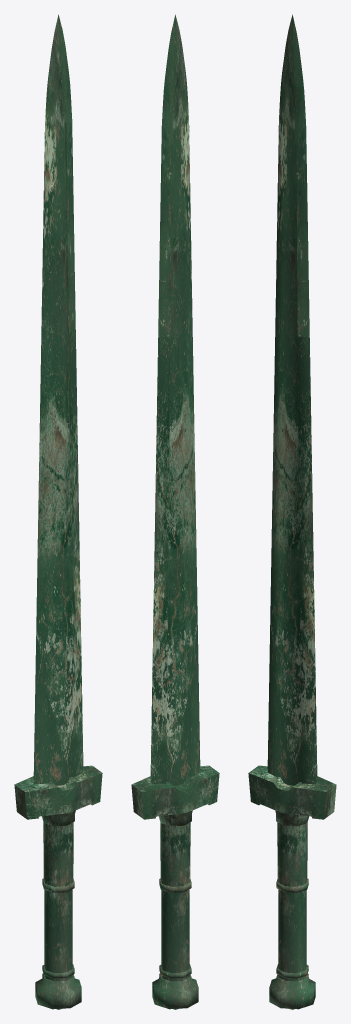
3 views of the same model, side by side, from view 1: azimuth 30°, elevation 25°; view 2: azimuth 210°, elevation 25°; view 3: azimuth 330°, elevation 25° (orthographic).
Visible parts, largest first — view 1: Ob7; view 2: Ob7; view 3: Ob7.
Boxes of the visible parts, box(x1,y1,x2,y2) form: Ob7: box(14, 14, 102, 1009); Ob7: box(131, 14, 219, 1009); Ob7: box(248, 14, 336, 1009).
Size of the model in its own units: 22.79 by 278 by 12.15.
Materials: 1 (1 with a texture image).
